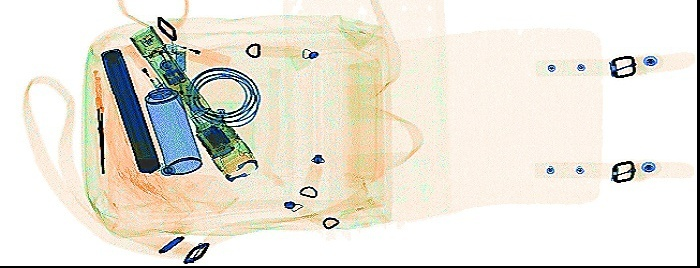lighter: (157, 35, 233, 74), (121, 36, 166, 91)
pressure: (143, 83, 202, 174)
scissors: (92, 66, 112, 174)
